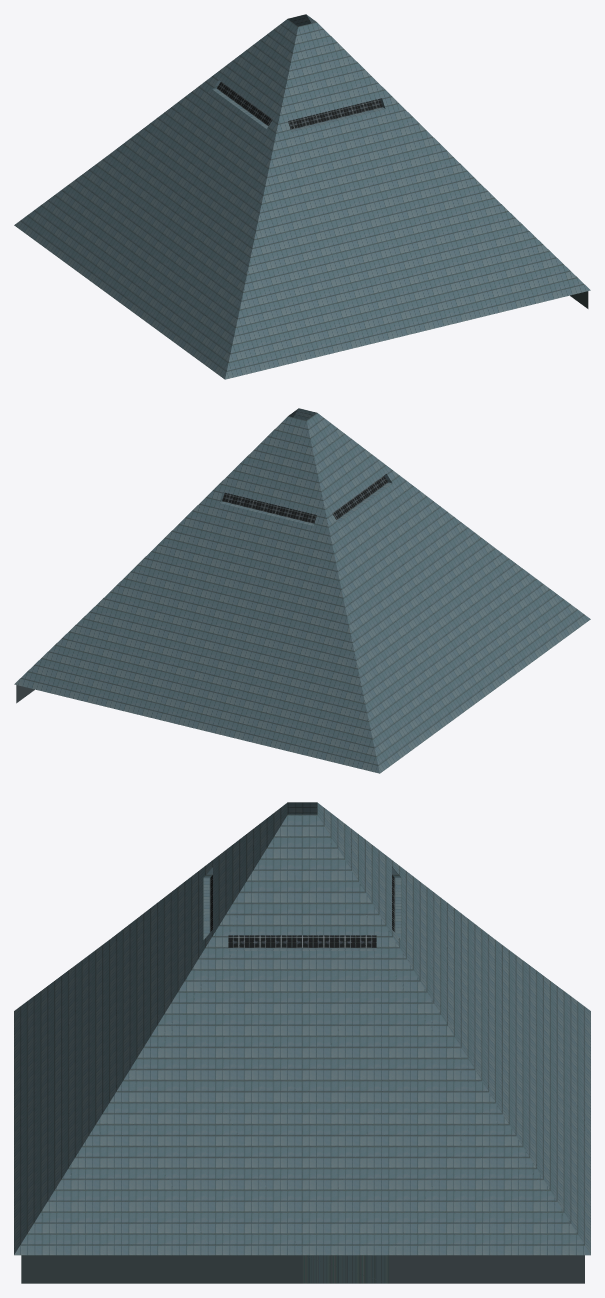
File: vgepyrmd_dy.obj
The picture shows the model from 3 angles, top to bottom: view 1: azimuth 30°, elevation 25°; view 2: azimuth 150°, elevation 25°; view 3: azimuth 270°, elevation 25°; orthographic projection. The views are drawn at different scales.
Visible parts, largest first — view 1: vgEpyrmd_dy; view 2: vgEpyrmd_dy; view 3: vgEpyrmd_dy.
Part boxes in pixels (x1,y1,x2,y2): vgEpyrmd_dy: [14, 14, 590, 379]; vgEpyrmd_dy: [14, 408, 590, 773]; vgEpyrmd_dy: [14, 802, 590, 1283].
Bounding box in the file's own units: 132 × 89.32 × 132.
3 materials, 3 textured.
